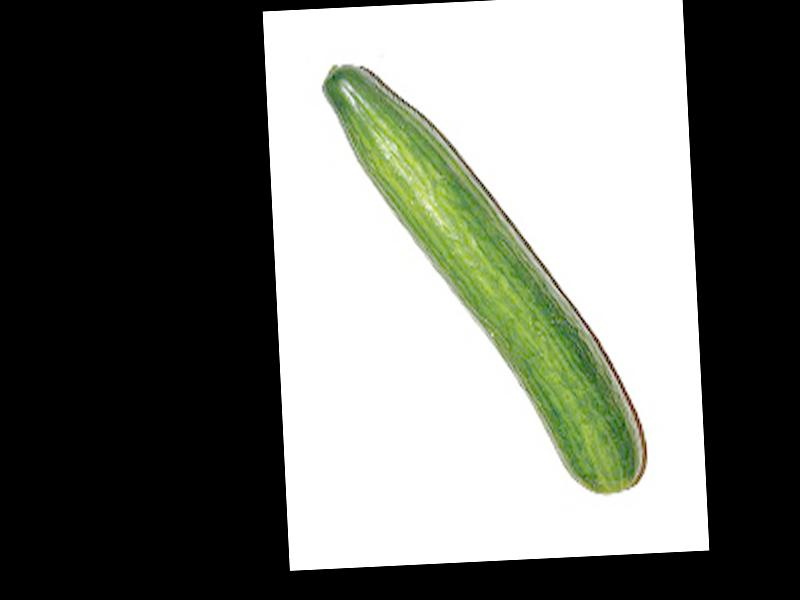Cucumber: (321, 51, 647, 506)
